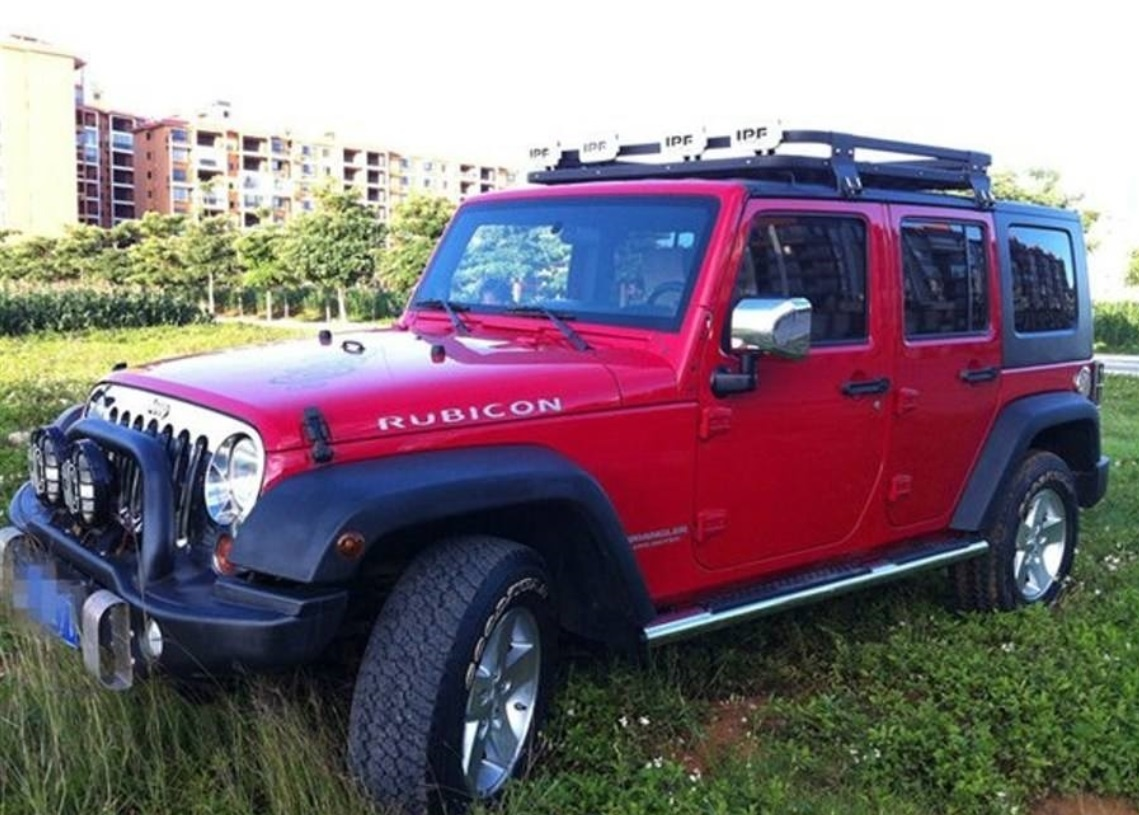jeep: (40, 152, 1097, 757)
